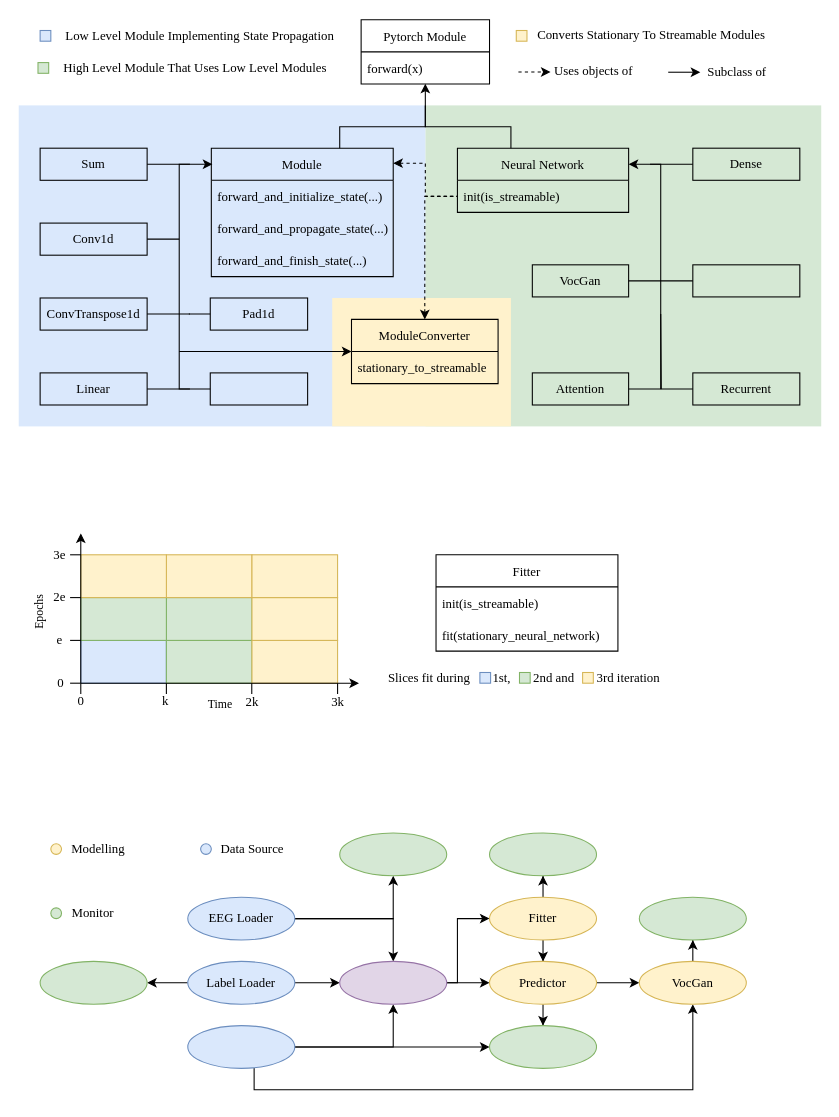
Some shapes in this 839 by 1117 pixel diagram are drawn without their labels. Each missing label, with the centre of its shape:
Convolutional: pixel 746 280
EEG Monitor: pixel 393 854
GRU: pixel 258 388
Label Monitor: pixel 93 982
Loss Monitor: pixel 542 854
Spectogram Monitor: pixel 542 1046
Speech Loader: pixel 241 1046
Unifier: pixel 393 982
Waveform Monitor: pixel 692 918
